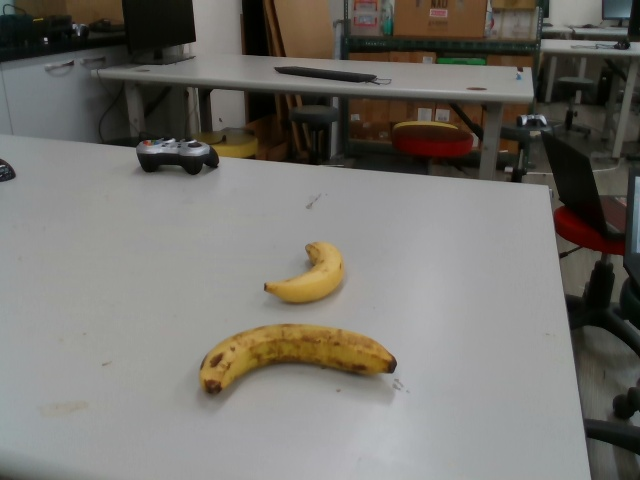banana: (193, 323, 397, 398), (266, 238, 344, 306)
